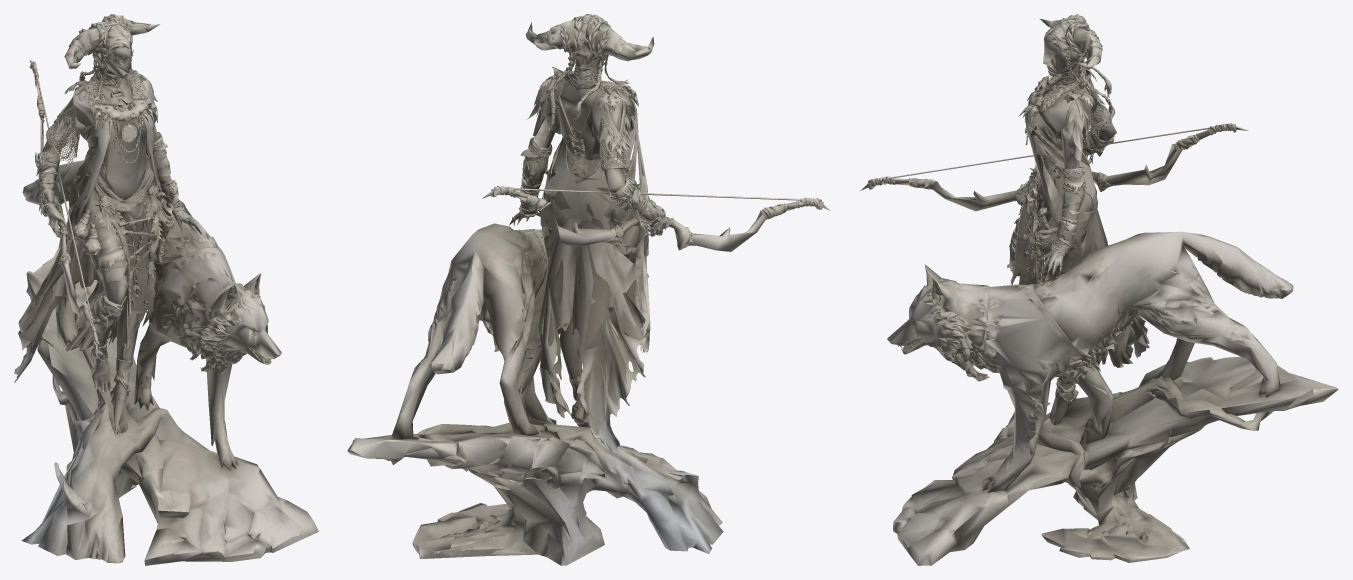
Rendered from nemetona_bust.glb.
3 views of the same model, side by side, from view 1: azimuth 30°, elevation 25°; view 2: azimuth 150°, elevation 25°; view 3: azimuth 270°, elevation 25° (orthographic). The views are drawn at different scales.
Bounding box in the file's own units: 0.1787 × 0.3302 × 0.2978.
Materials: 1 (1 with a texture image).
